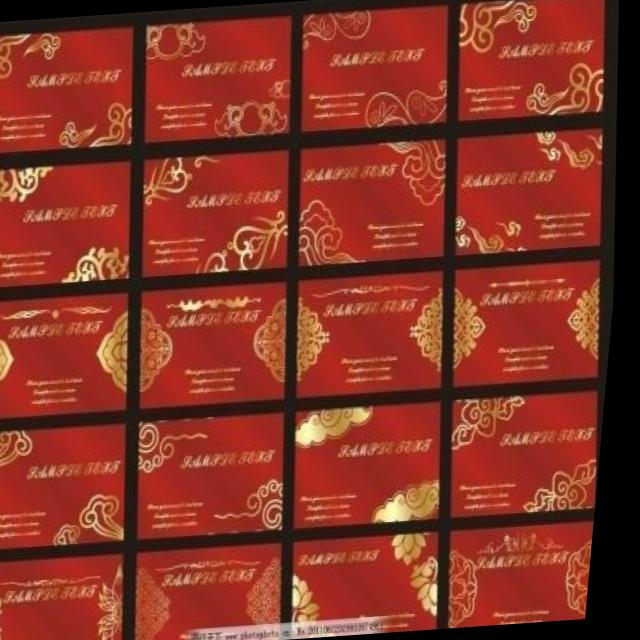box: (303, 138, 449, 268), (146, 149, 292, 279), (459, 129, 606, 258), (459, 257, 606, 386), (301, 401, 448, 530), (459, 390, 605, 519), (303, 270, 449, 399), (146, 282, 292, 411), (146, 412, 292, 541), (304, 2, 449, 131), (146, 15, 292, 142), (459, 0, 606, 122), (0, 423, 135, 551), (0, 290, 135, 418), (0, 160, 133, 289), (0, 26, 133, 153), (459, 519, 604, 628), (303, 532, 448, 639), (146, 541, 291, 640), (0, 552, 133, 640)
